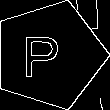P_N: (30, 30, 68, 80)
